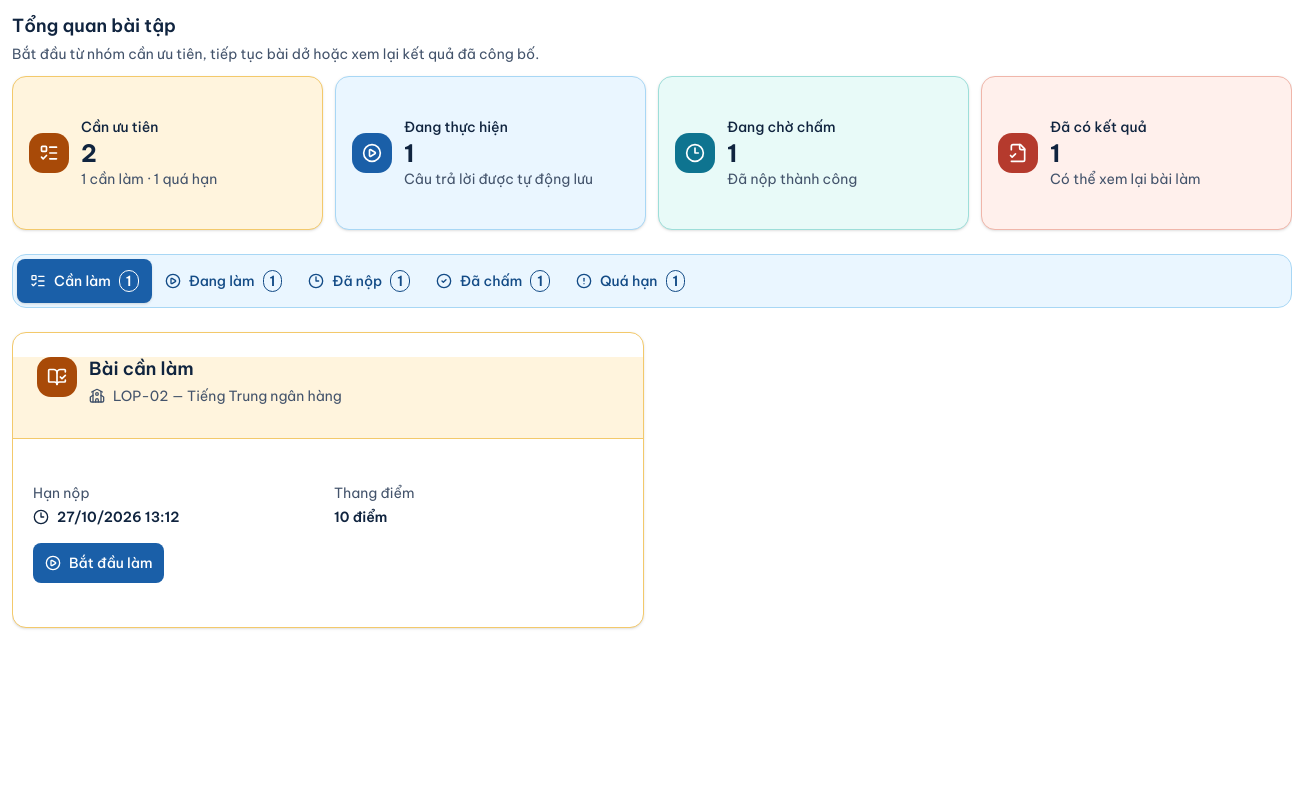
Test: StudentExerciseList › hiển thị tổng quan thật và giữ đúng hành động của từng nhóm
Expected: the heading "Tổng quan bài tập" is shown, [12,14,176,37]
Expected: the text "1 cần làm · 1 quá hạn" is shown, [81,169,217,189]
Click the tab "Đang làm 1".
click(223, 281)  # box [152,259,295,303]
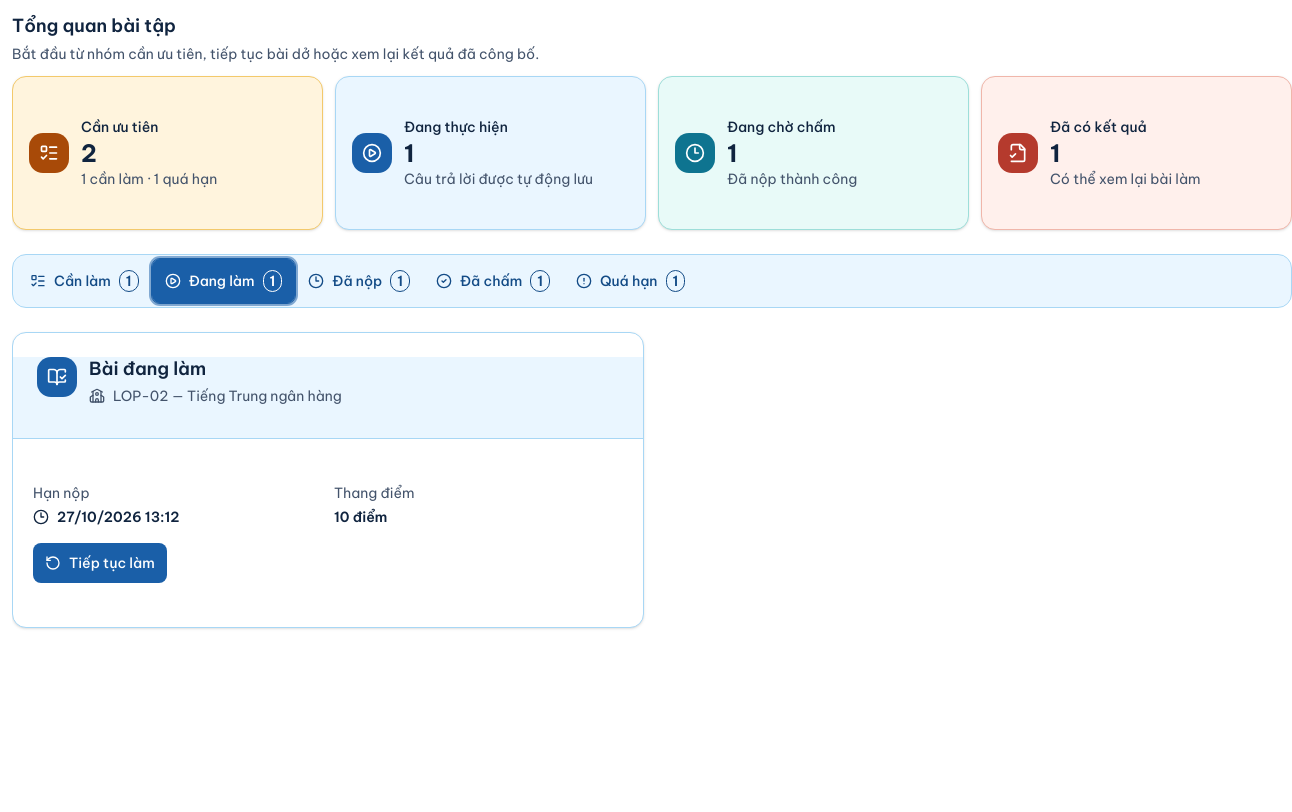
Click the tab "Đã nộp 1".
click(359, 281)  # box [295,259,423,303]
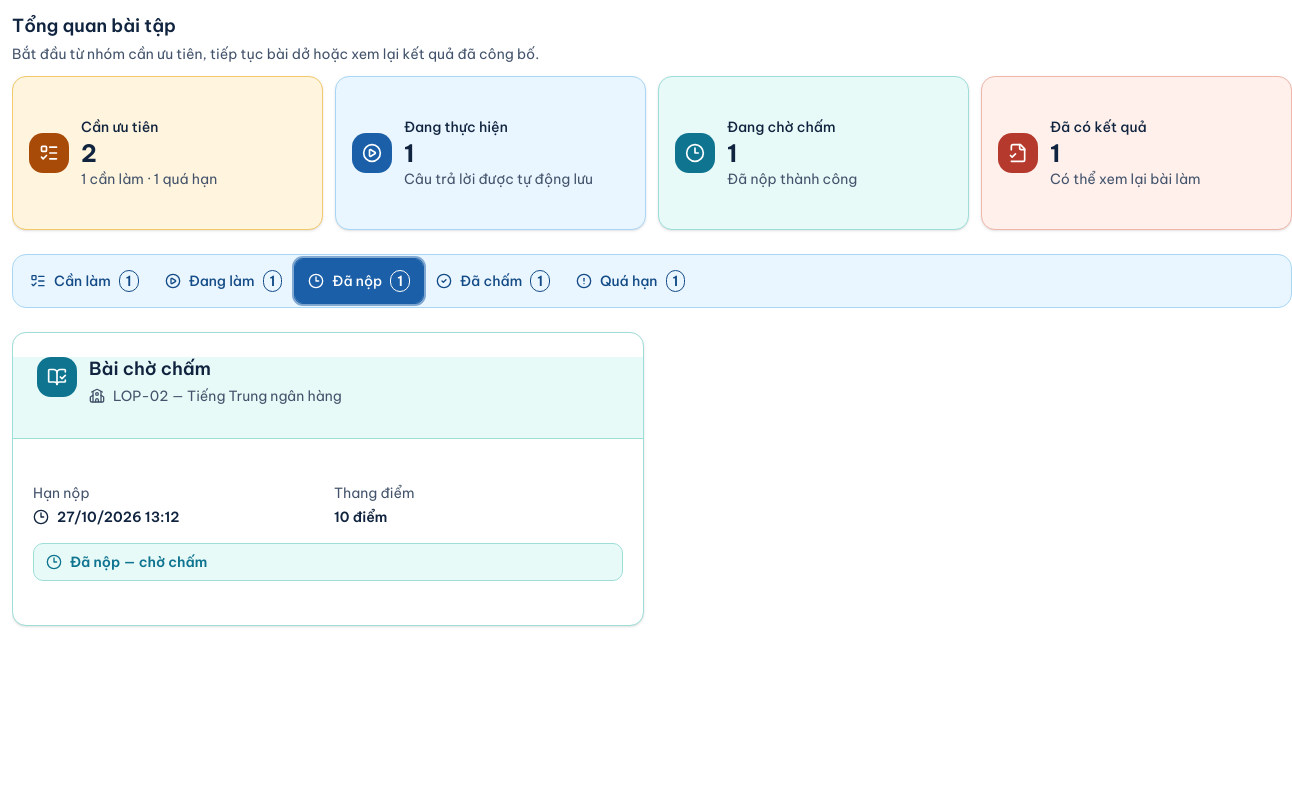
Result: the message reads "Đã nộp — chờ chấm" at [70,553,207,571]
Click the tab "Đã chấm 1".
click(493, 281)  # box [423,259,563,303]
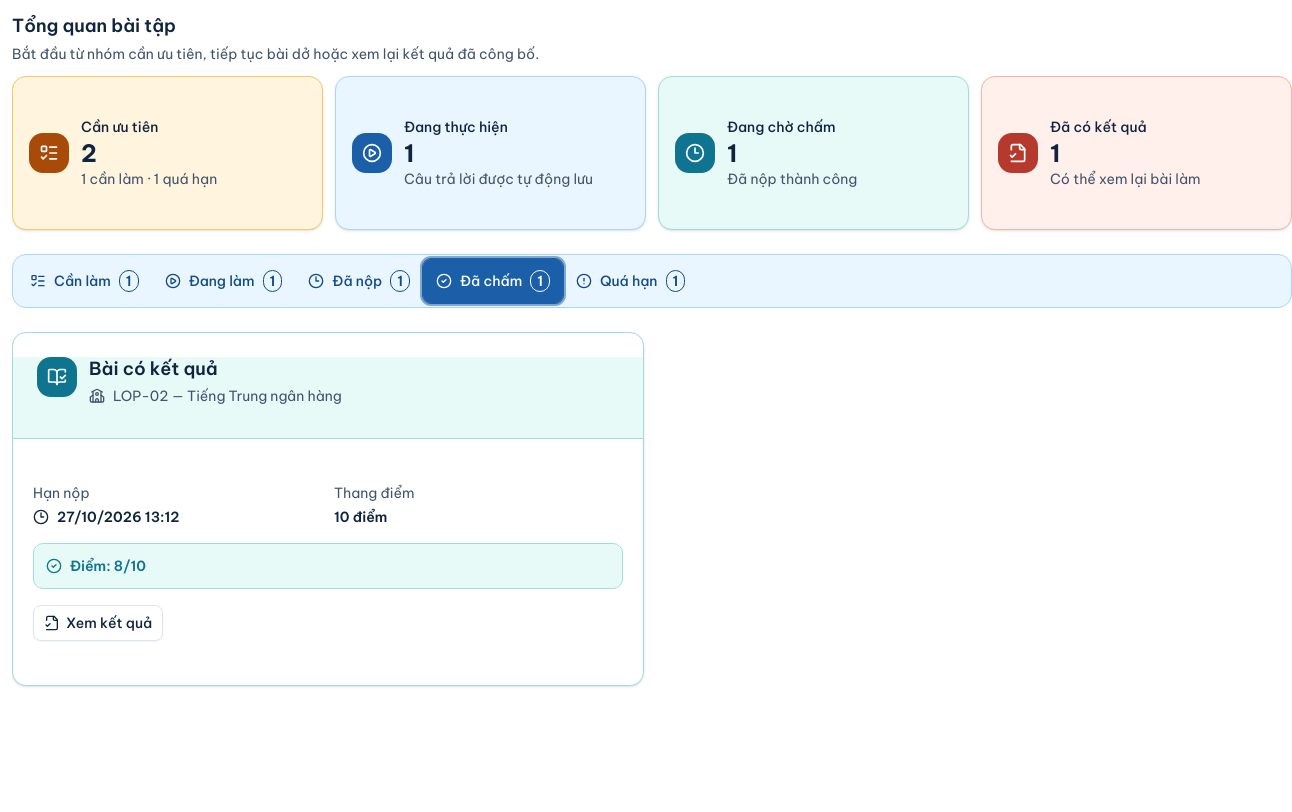
Result: the text "Điểm: 8/10" is shown at [46,557,146,575]
